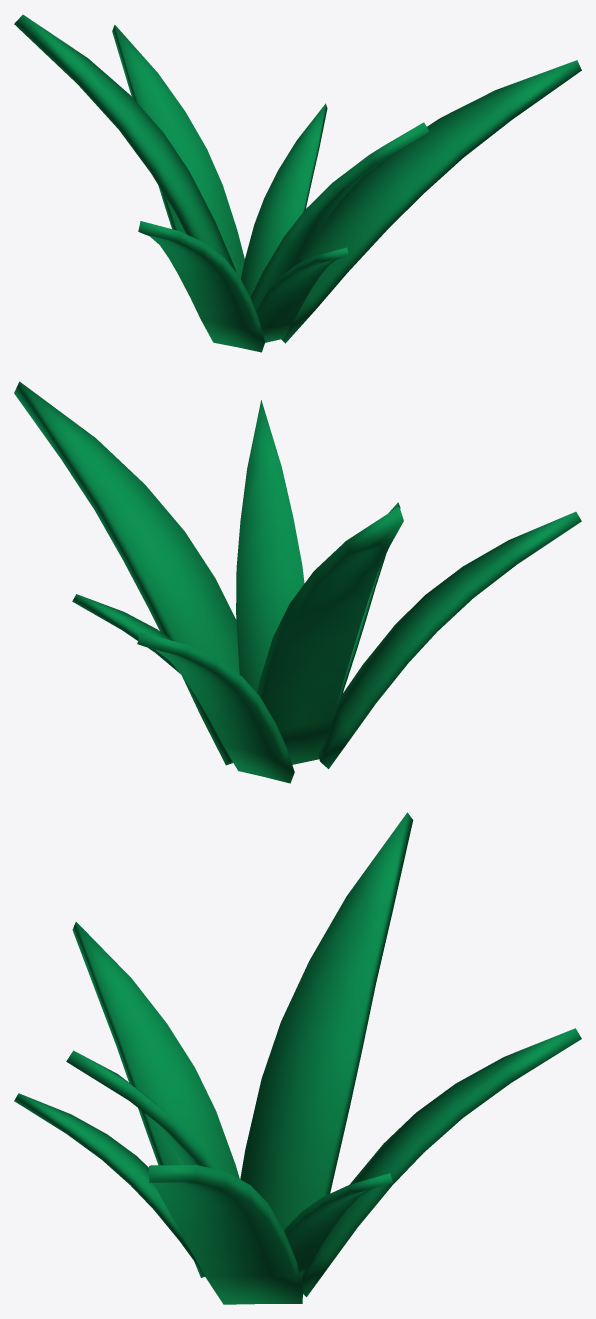
The model's file is Grass_01.fbx.
3 renders of one model, top to bottom at view 1: azimuth 30°, elevation 25°; view 2: azimuth 150°, elevation 25°; view 3: azimuth 270°, elevation 25°, orthographic. The views are drawn at different scales.
Parts seen in each view (by area): view 1: Grass_01; view 2: Grass_01; view 3: Grass_01.
Part boxes in pixels (x1=…): Grass_01: x1=14, y1=14, x2=581, y2=352; Grass_01: x1=14, y1=381, x2=581, y2=783; Grass_01: x1=14, y1=812, x2=581, y2=1304.
Bounding box in the file's own units: 76.94 × 66.16 × 49.26.
